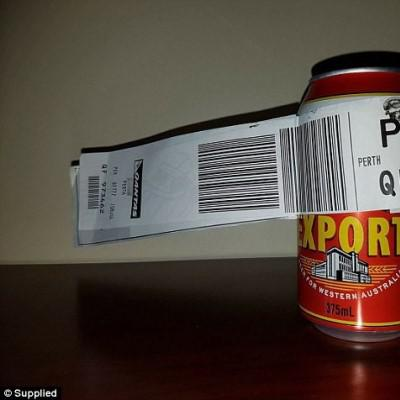beer: (297, 63, 400, 346)
